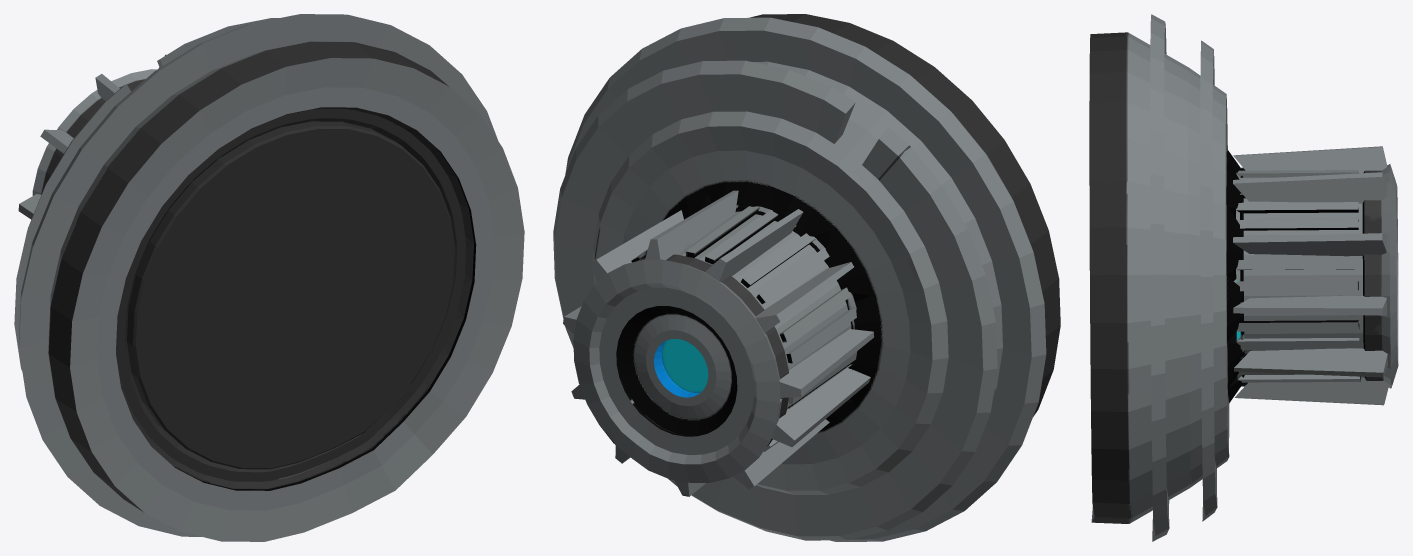
The model's file is Engine.glb.
3 renders of one model, left to right at view 1: azimuth 30°, elevation 25°; view 2: azimuth 150°, elevation 25°; view 3: azimuth 270°, elevation 25°, orthographic. The views are drawn at different scales.
Visible parts, largest first — view 1: Pogon; view 2: Pogon; view 3: Pogon.
Boxes of the visible parts, x1,y1,x2,y2 form: Pogon: [14, 14, 524, 541]; Pogon: [553, 14, 1060, 541]; Pogon: [1089, 14, 1398, 541].
Size of the model in its own units: 2.44 by 2.43 by 1.43.
1 material, 1 textured.
